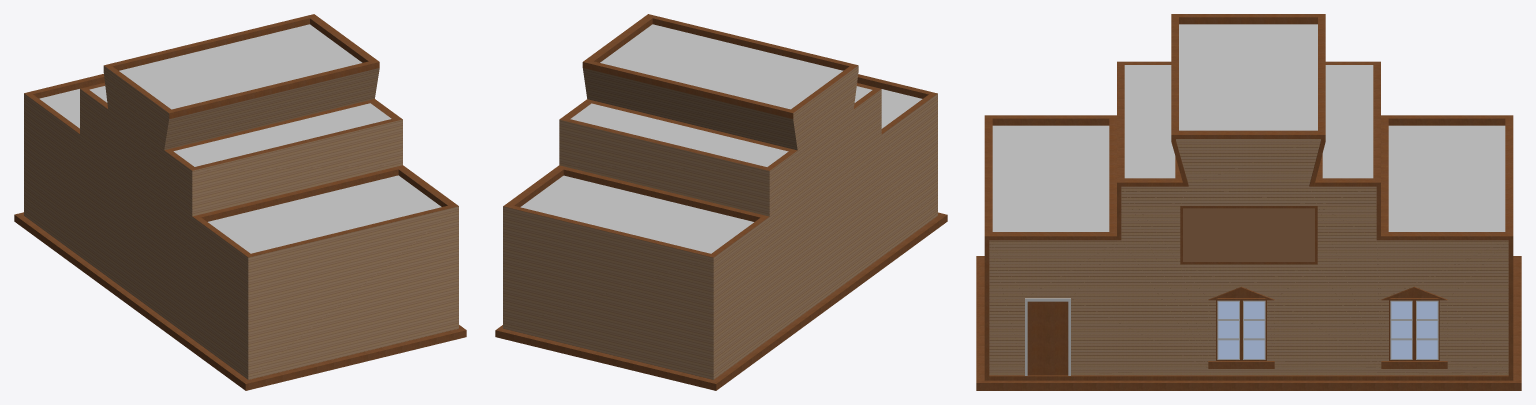
The model's file is drug_store_no_sign.fbx.
3 renders of one model, left to right at view 1: azimuth 30°, elevation 25°; view 2: azimuth 150°, elevation 25°; view 3: azimuth 270°, elevation 25°, orthographic. The views are drawn at different scales.
Parts seen in each view (by area): view 1: Model; view 2: Model; view 3: Model.
Boxes of the visible parts, x1,y1,x2,y2 form: Model: (14, 14, 466, 390); Model: (495, 14, 947, 390); Model: (976, 14, 1521, 390).
Bounding box in the file's own units: 930 × 868 × 1689.
